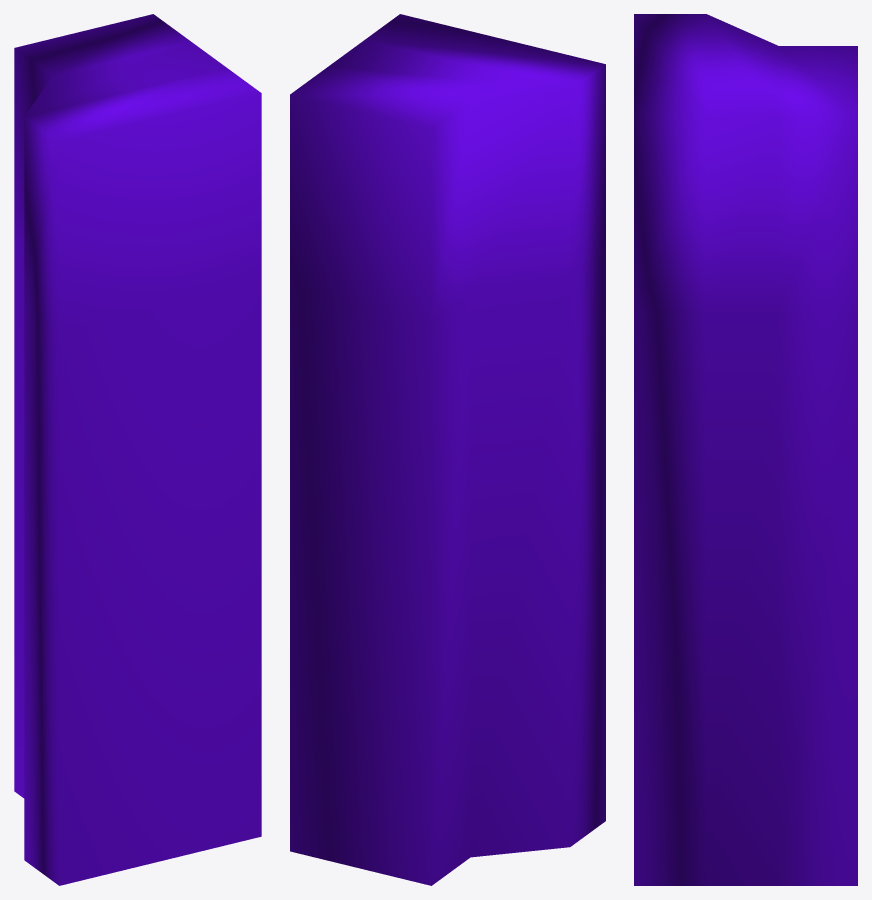
Rendered from Gateway_05_C.fbx.
The picture shows the model from 3 angles, left to right: view 1: azimuth 30°, elevation 25°; view 2: azimuth 150°, elevation 25°; view 3: azimuth 270°, elevation 25°; orthographic projection. The views are drawn at different scales.
Parts seen in each view (by area): view 1: Gateway_05_C; view 2: Gateway_05_C; view 3: Gateway_05_C.
Boxes of the visible parts, <box> form: Gateway_05_C: <box>14,14,261,885</box>; Gateway_05_C: <box>290,14,605,885</box>; Gateway_05_C: <box>634,14,857,885</box>.
Bounding box in the file's own units: 142 × 499 × 132.
